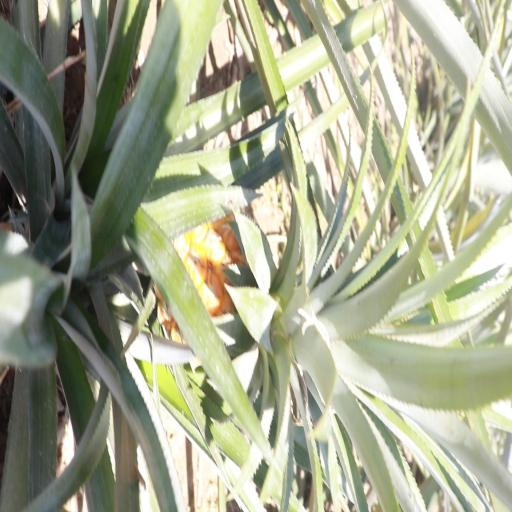Pineapple - v8 v1: (163, 198, 378, 376)
